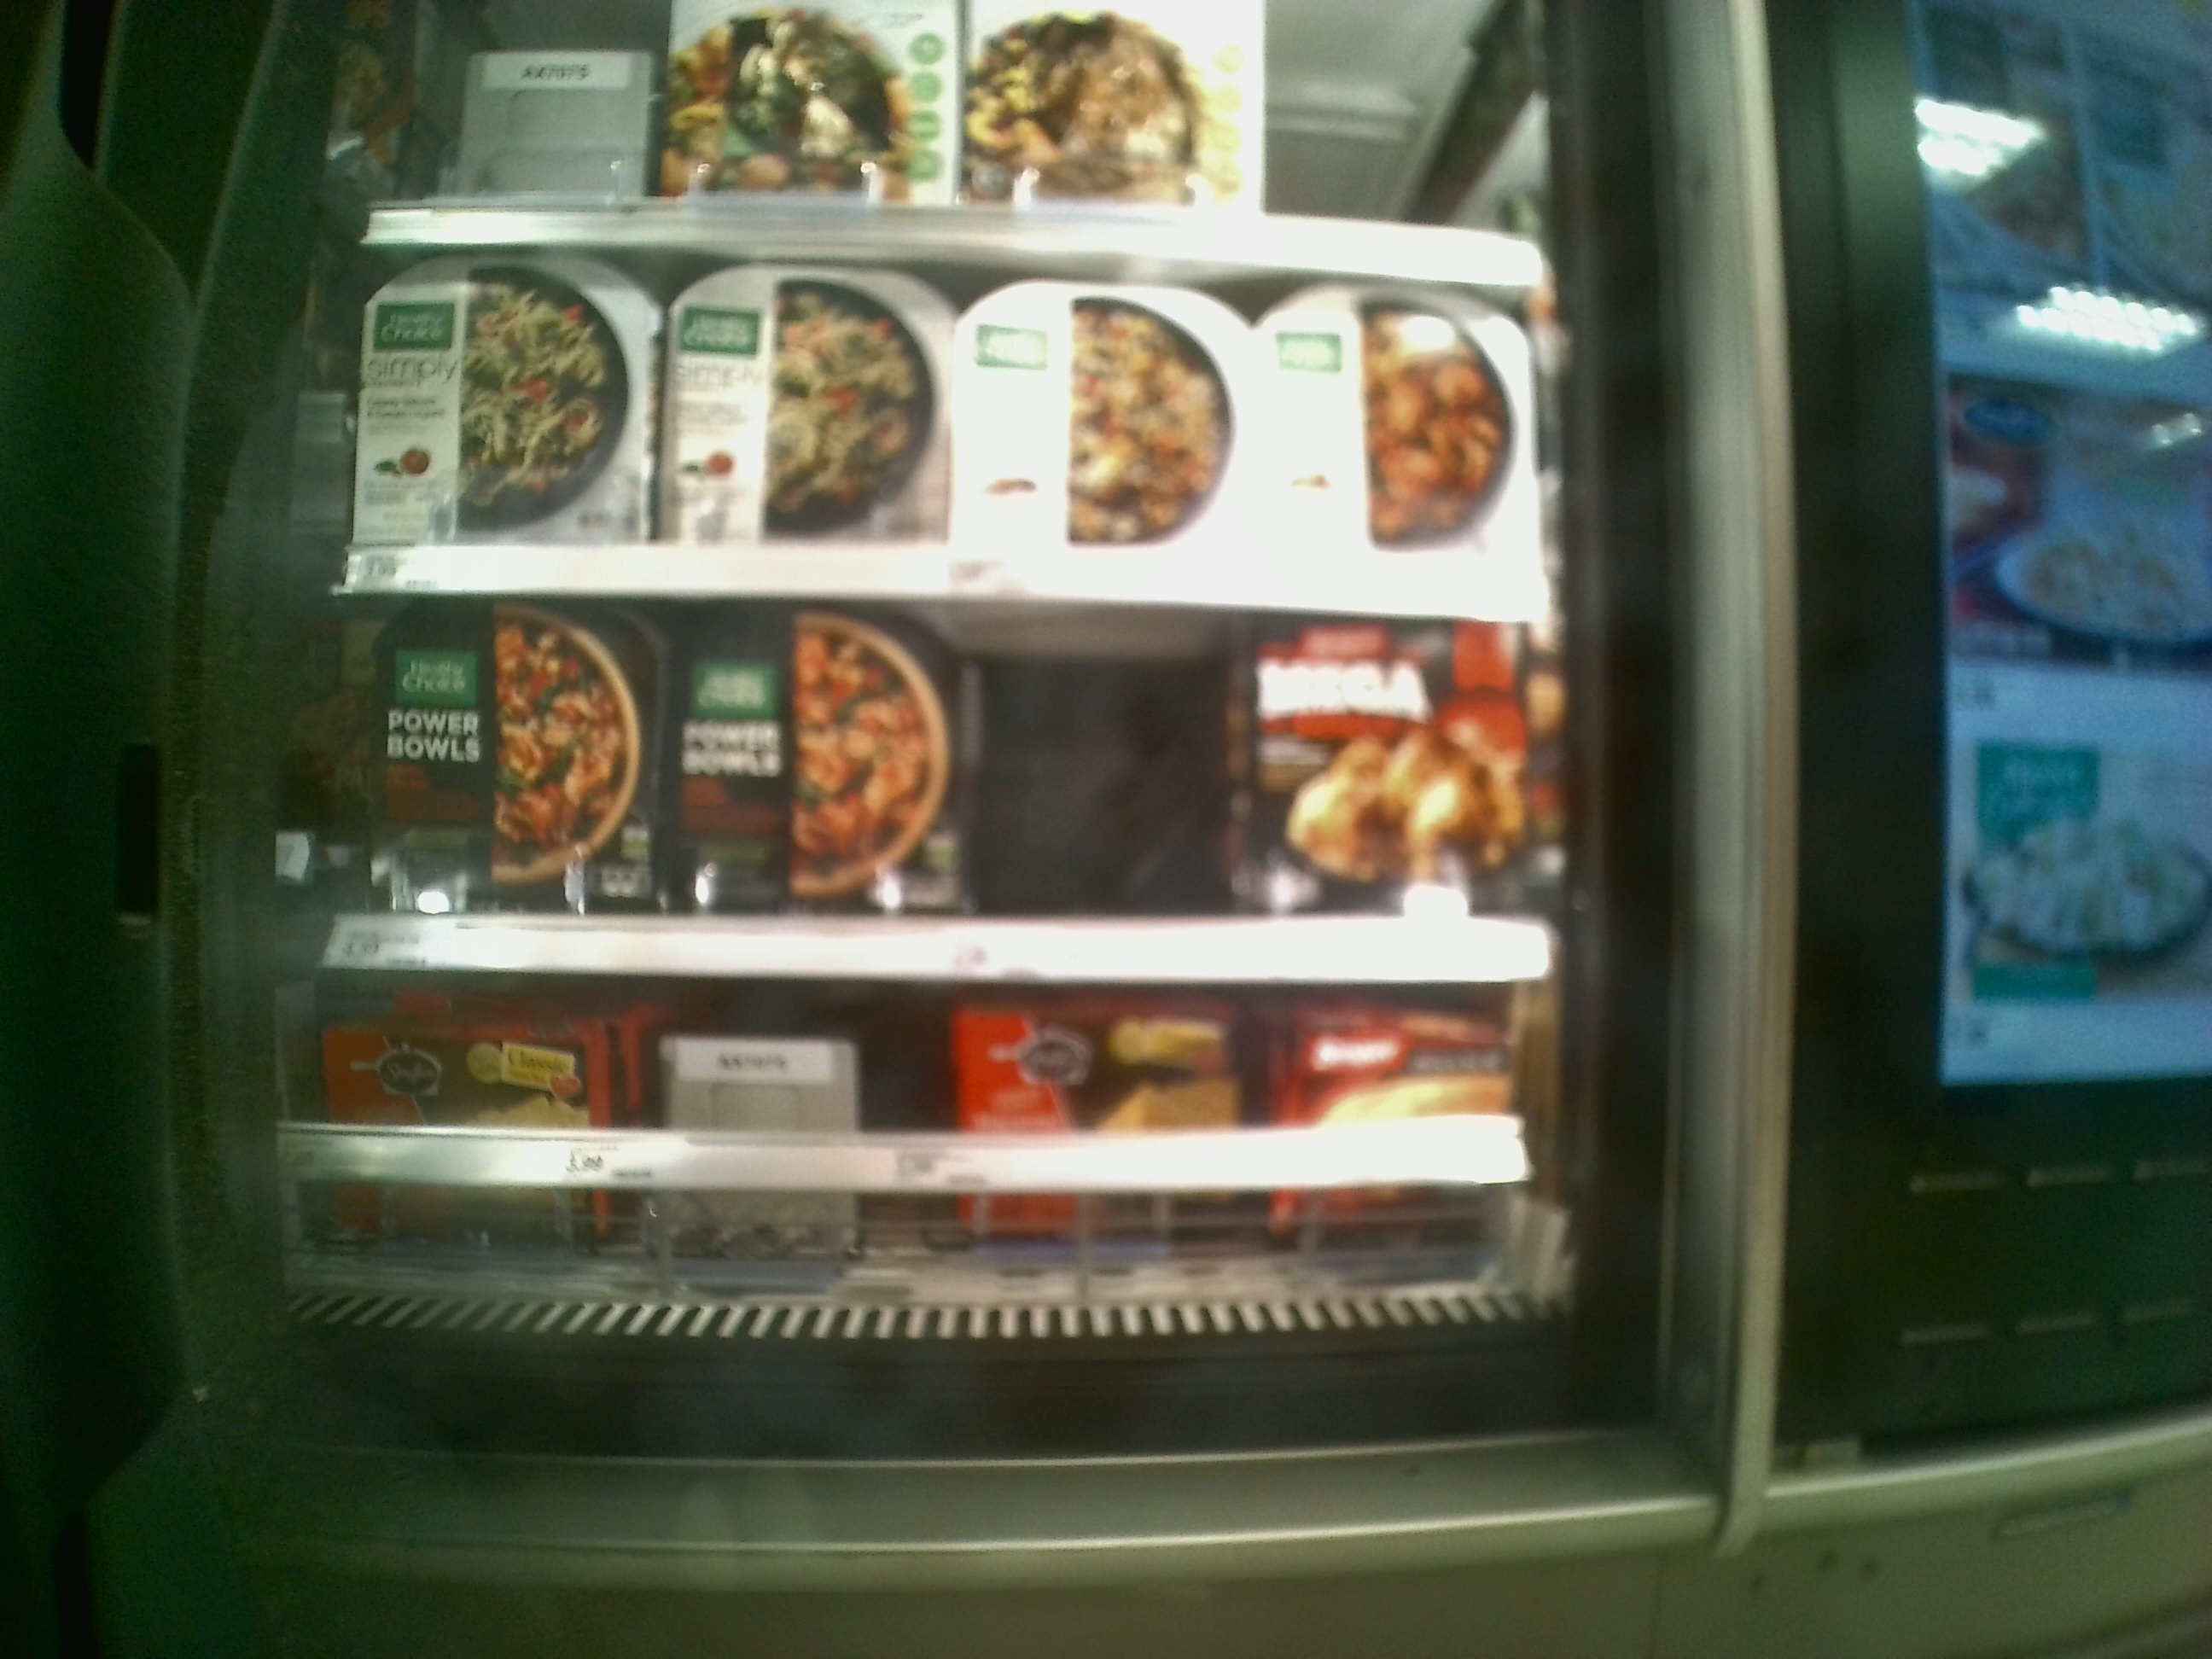shelf: (294, 978, 1571, 1389), (336, 598, 1559, 985), (329, 242, 1564, 620)
